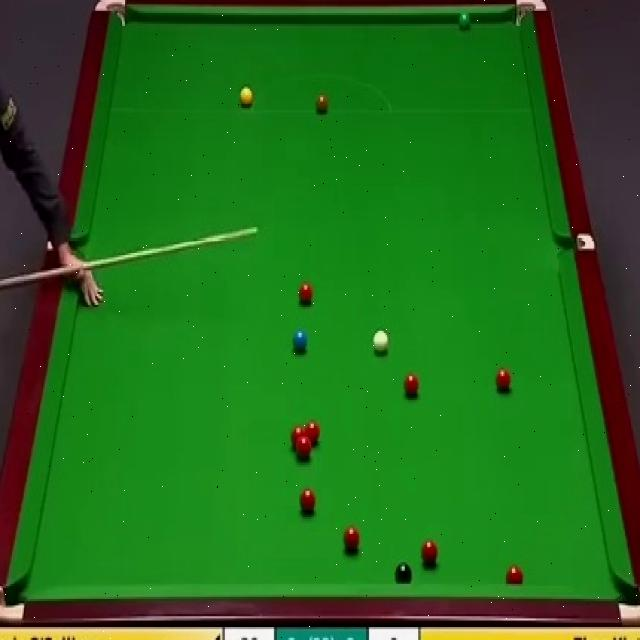black-ball: (395, 563, 413, 584)
blue-ball: (292, 328, 308, 355)
brown-ball: (315, 90, 330, 117)
green-ball: (459, 10, 472, 30)
red-ball: (298, 487, 317, 516), (342, 526, 361, 553), (421, 540, 438, 566), (496, 367, 512, 394), (404, 371, 419, 398), (505, 564, 524, 584), (298, 281, 314, 304), (296, 435, 311, 458), (305, 422, 320, 442), (292, 426, 304, 444)
white-ball: (373, 328, 390, 355)
yellow-ball: (238, 84, 254, 109)
